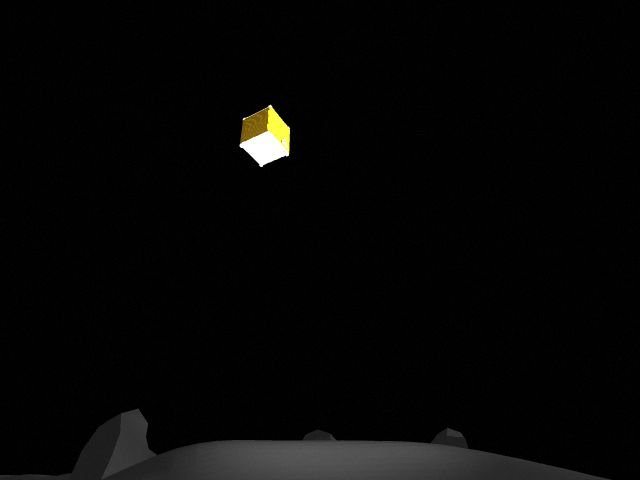cubesat: (234, 100, 296, 170)
